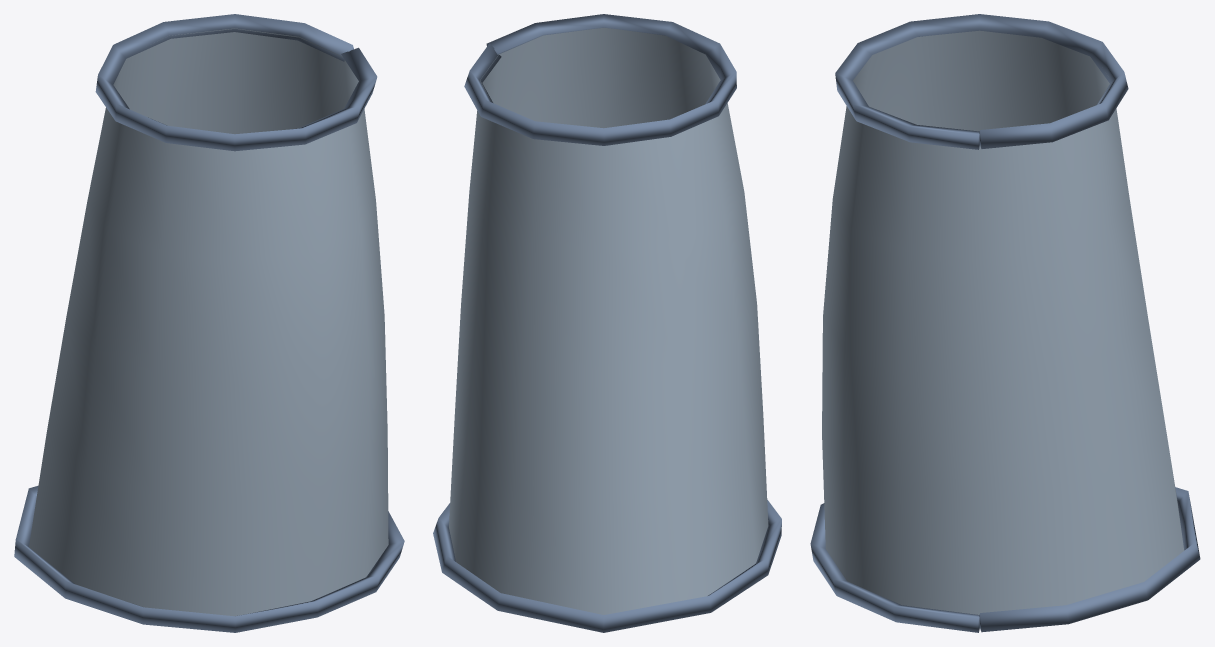
The model's file is titanium_armor_cuisse.R.glb.
3 renders of one model, left to right at view 1: azimuth 30°, elevation 25°; view 2: azimuth 150°, elevation 25°; view 3: azimuth 270°, elevation 25°, orthographic. The views are drawn at different scales.
Visible parts, largest first — view 1: titanium_armor_cuisse.R; view 2: titanium_armor_cuisse.R; view 3: titanium_armor_cuisse.R.
Part boxes in pixels (box(x1,y1,x2,y2)): titanium_armor_cuisse.R: box(14, 14, 404, 632); titanium_armor_cuisse.R: box(433, 14, 781, 632); titanium_armor_cuisse.R: box(810, 14, 1200, 632).
Bounding box in the file's own units: 0.2669 × 0.3856 × 0.2783.
